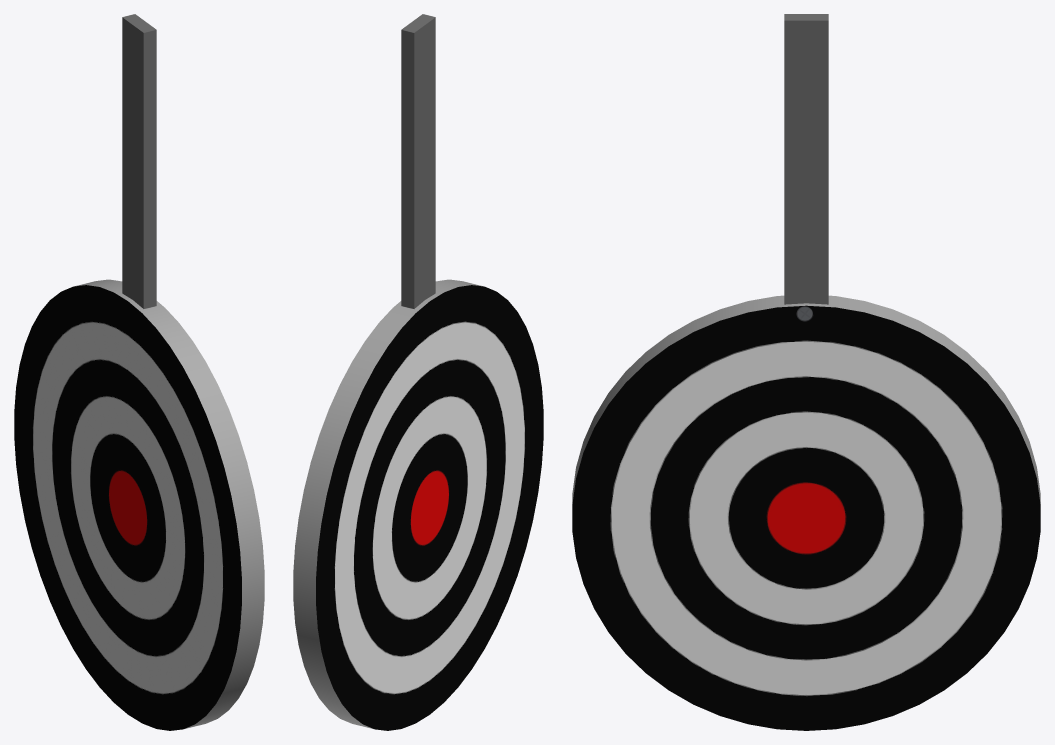
Rendered from Target.fbx.
3 views of the same model, side by side, from view 1: azimuth 30°, elevation 25°; view 2: azimuth 150°, elevation 25°; view 3: azimuth 270°, elevation 25° (orthographic). The views are drawn at different scales.
Visible parts, largest first — view 1: pCube3; view 2: pCube3; view 3: pCube3.
Part boxes in pixels (left/top/right/bottom): pCube3: left=14, top=14, right=264, bottom=730; pCube3: left=293, top=14, right=543, bottom=730; pCube3: left=572, top=14, right=1040, bottom=730.
Size of the model in its own units: 5.55 by 161 by 96.21.
1 material, 1 textured.
